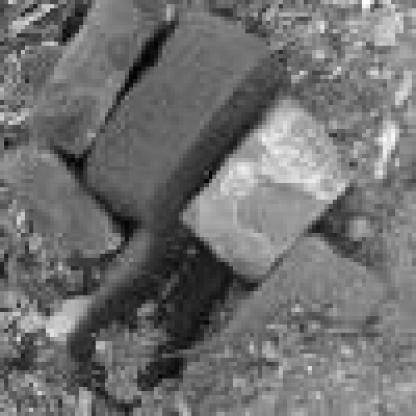brick: (2, 2, 412, 412)
